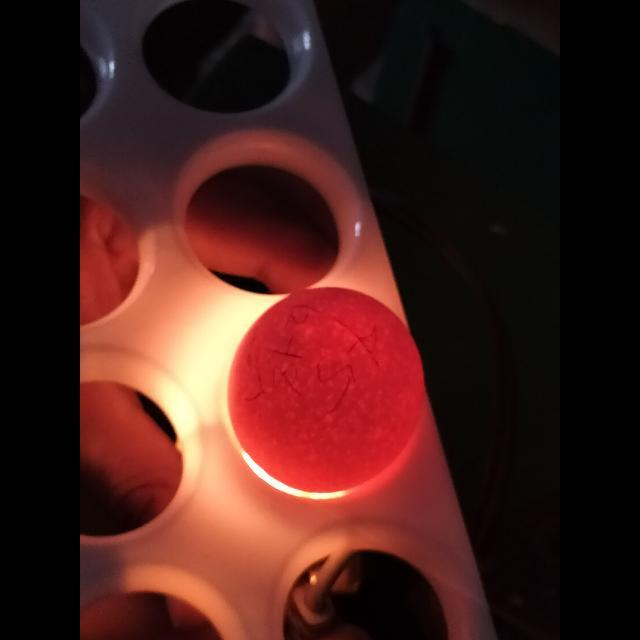Infertile: (232, 280, 420, 498)
